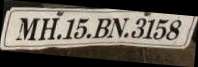character: (14, 16, 41, 41), (37, 17, 61, 40), (106, 17, 130, 39), (90, 16, 112, 39), (152, 17, 170, 40), (130, 16, 147, 39), (165, 19, 182, 42), (73, 17, 90, 39), (61, 18, 75, 39), (142, 19, 156, 40)
